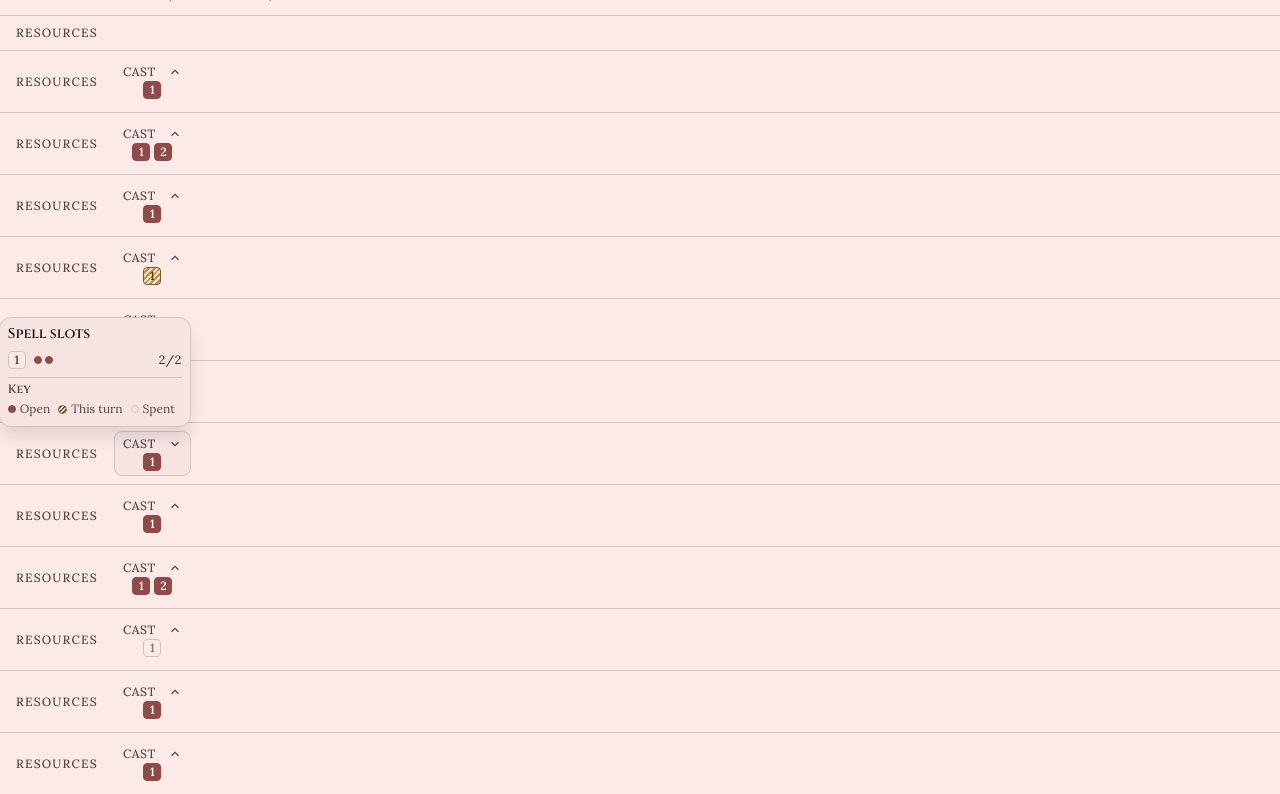
Scenario: Ledger — spell slot cell › opens the tray on click and points aria-controls at it
(page scrolled)
Click the 12th button with class "ledger__slot-toggle".
click(152, 764)  # box [114, 741, 191, 786]
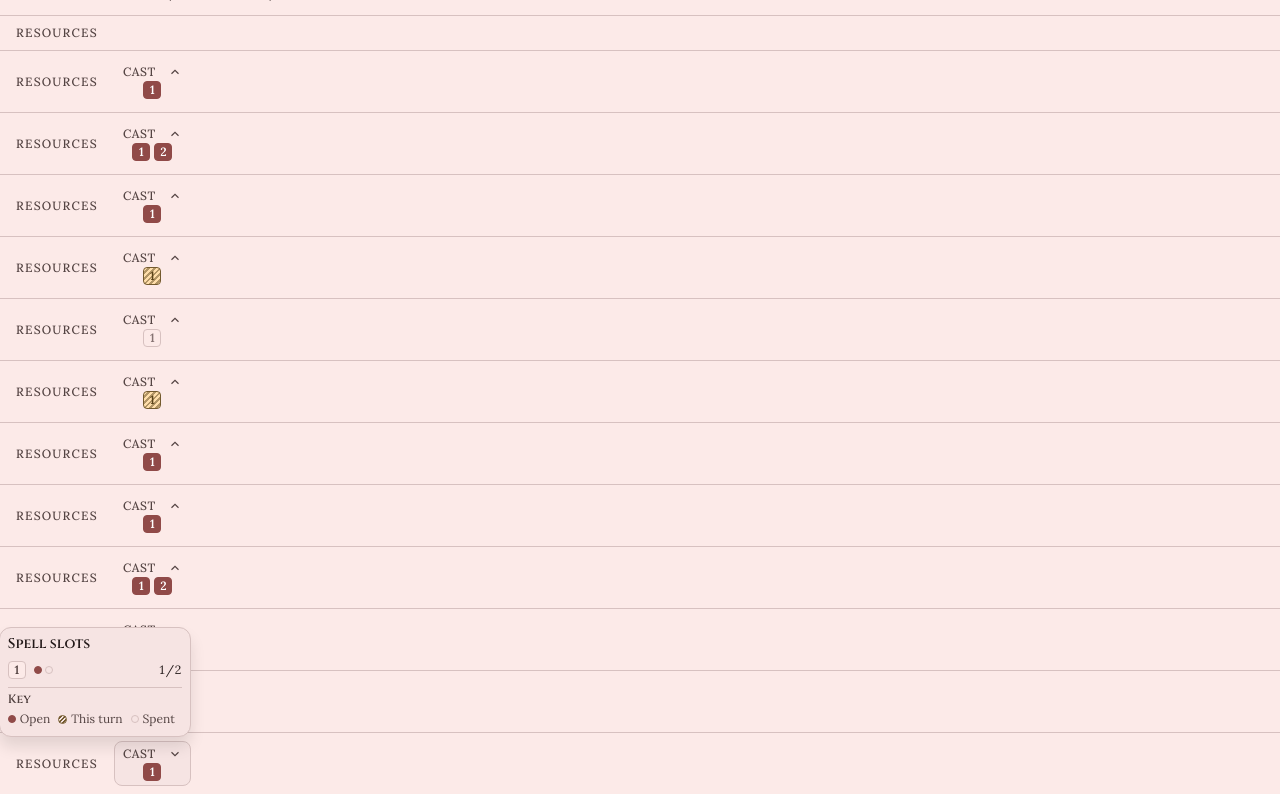
expect the button with class "ledger__slot-toggle" below "Open" is expanded: met, box [114, 741, 191, 786]
